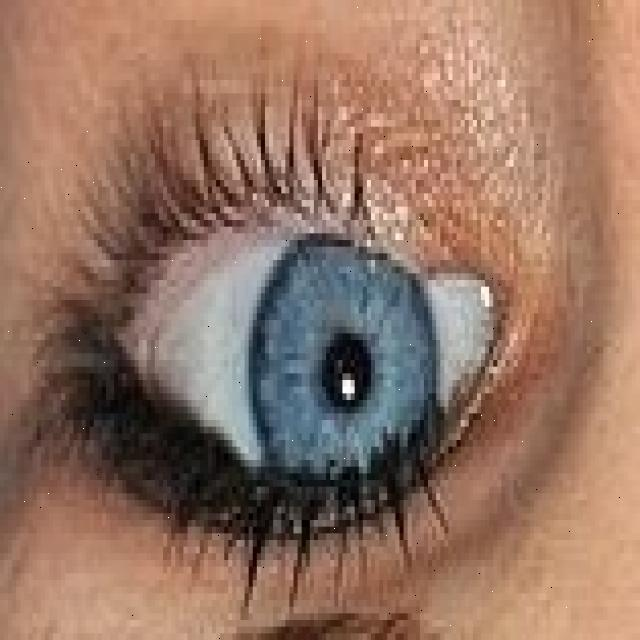Normal: (255, 217, 435, 533)
